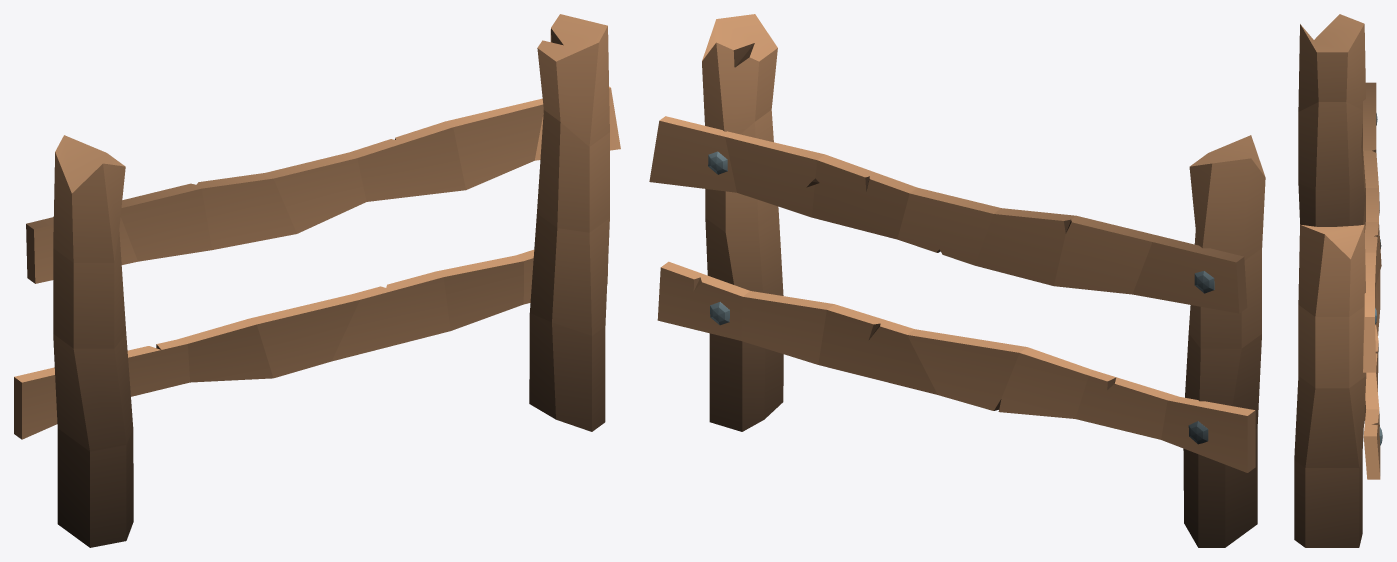
Rendered from CERCA.fbx.
3 renders of one model, left to right at view 1: azimuth 30°, elevation 25°; view 2: azimuth 150°, elevation 25°; view 3: azimuth 270°, elevation 25°, orthographic. The views are drawn at different scales.
Visible parts, largest first — view 1: Cube, Cylinder, Cylinder.001, Cube.001; view 2: Cube, Cube.001, Cylinder.001, Cylinder; view 3: Cylinder, Cylinder.001, Cube, Cube.001.
Boxes of the visible parts, x1,y1,x2,y2 form: Cube: [26, 86, 620, 283]; Cylinder: [529, 14, 609, 431]; Cylinder.001: [53, 135, 133, 547]; Cube.001: [14, 249, 608, 439]; Cube: [649, 116, 1247, 313]; Cube.001: [657, 261, 1255, 472]; Cylinder.001: [1183, 135, 1265, 547]; Cylinder: [702, 14, 783, 431]; Cylinder: [1294, 224, 1366, 547]; Cylinder.001: [1298, 14, 1365, 226]; Cube: [1361, 82, 1381, 372]; Cube.001: [1363, 271, 1380, 479].
Bounding box in the file's own units: 416 × 256 × 64.16.
